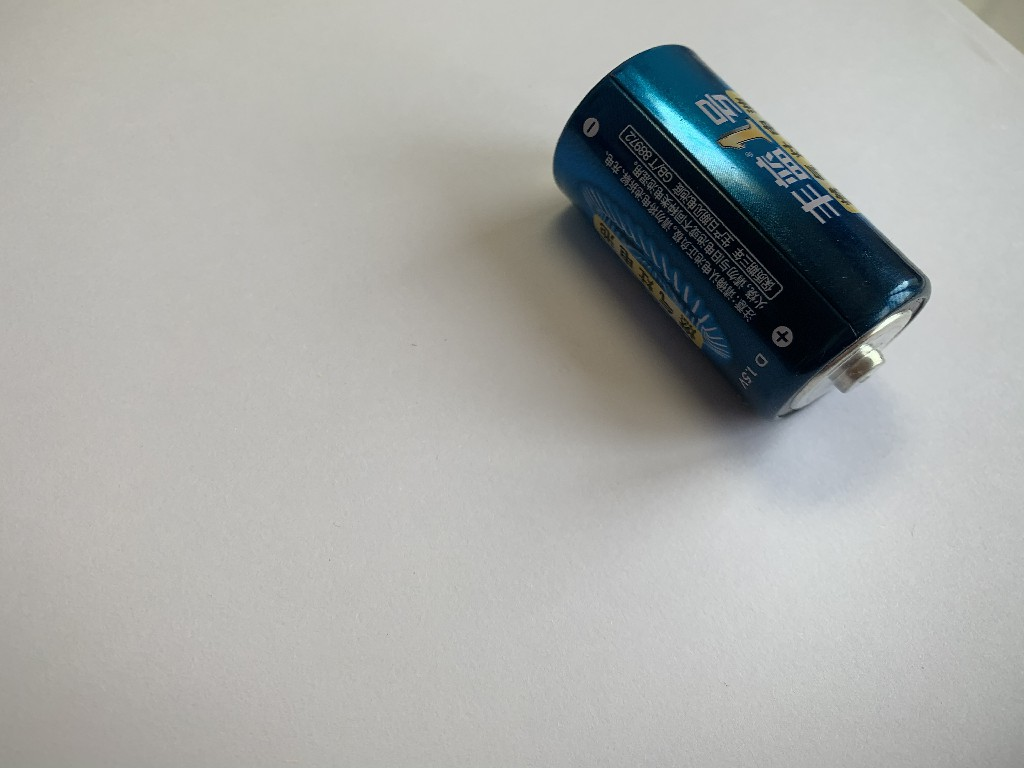charge: (543, 36, 935, 428)
